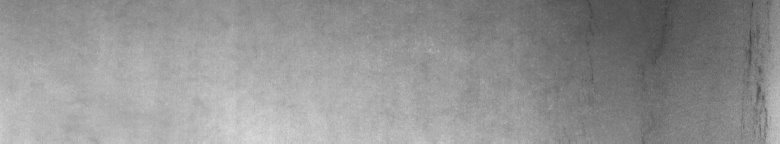ka: (737, 4, 773, 136)
